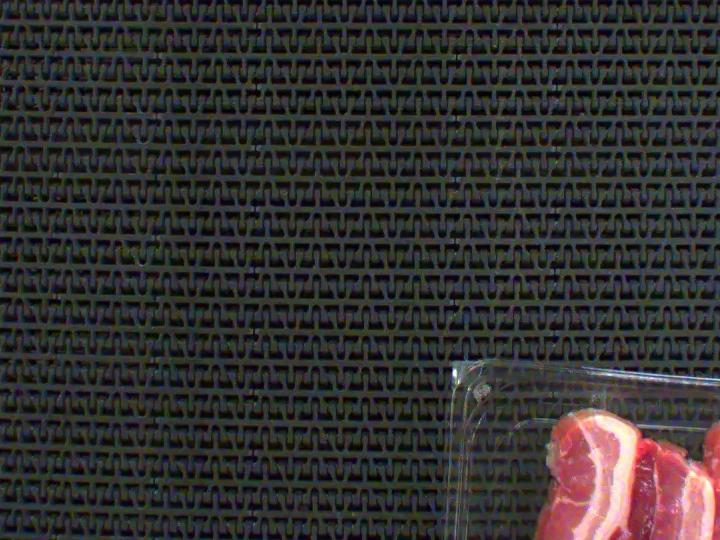packaging-error: (587, 379, 613, 416)
